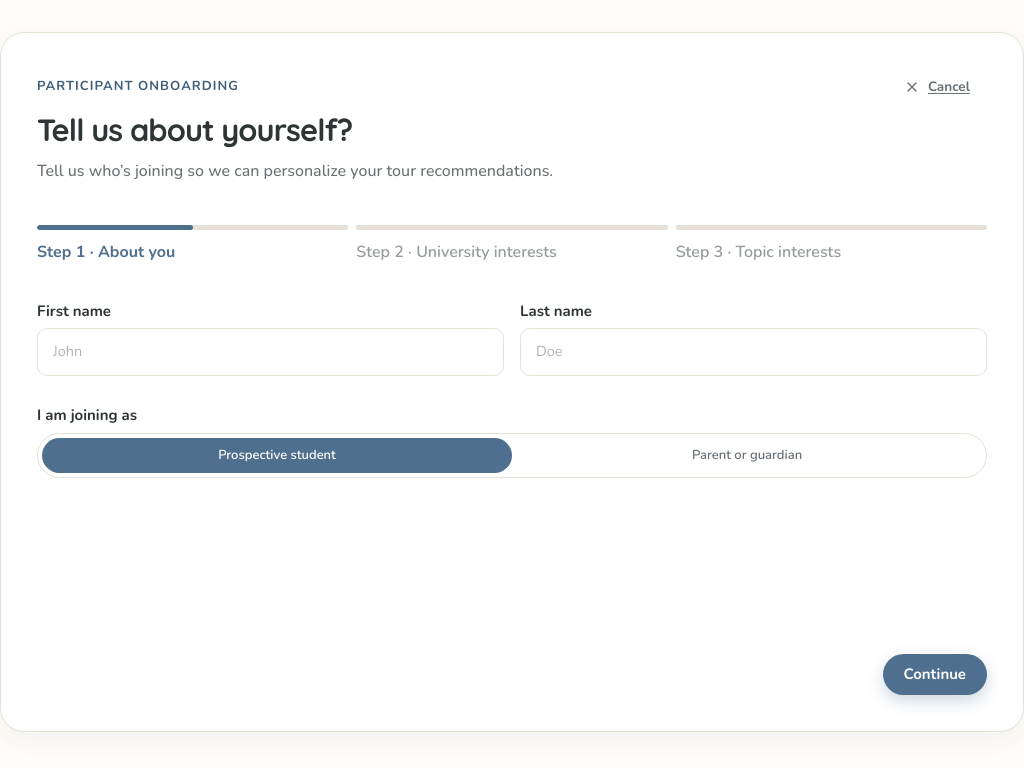
Scenario: ParticipantOnboardingForm edge cases › Back returns to the previous step keeping entered values
The width and height of the screenshot is (1024, 768).
In the field labelled "First name": (270, 352) x1=37 y1=328 x2=504 y2=376, type "Jordan"
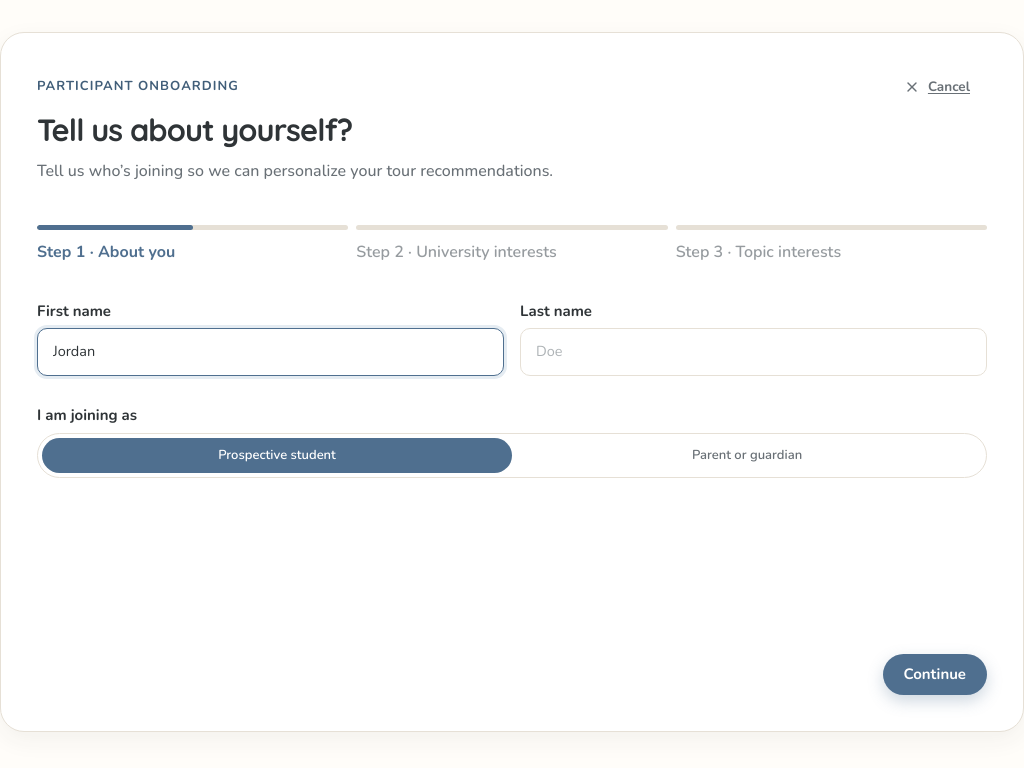
In the field labelled "Last name": (754, 352) x1=520 y1=328 x2=987 y2=376, type "Lee"
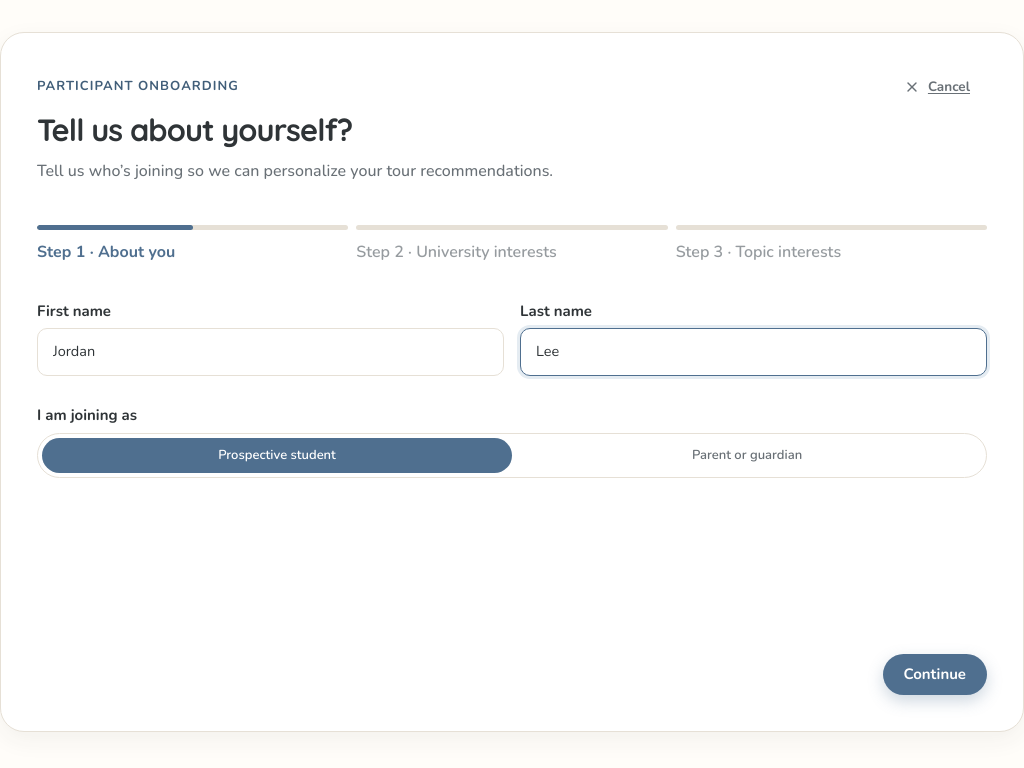
Click the button "Continue": (935, 674) x1=882 y1=654 x2=987 y2=695
(page scrolled)
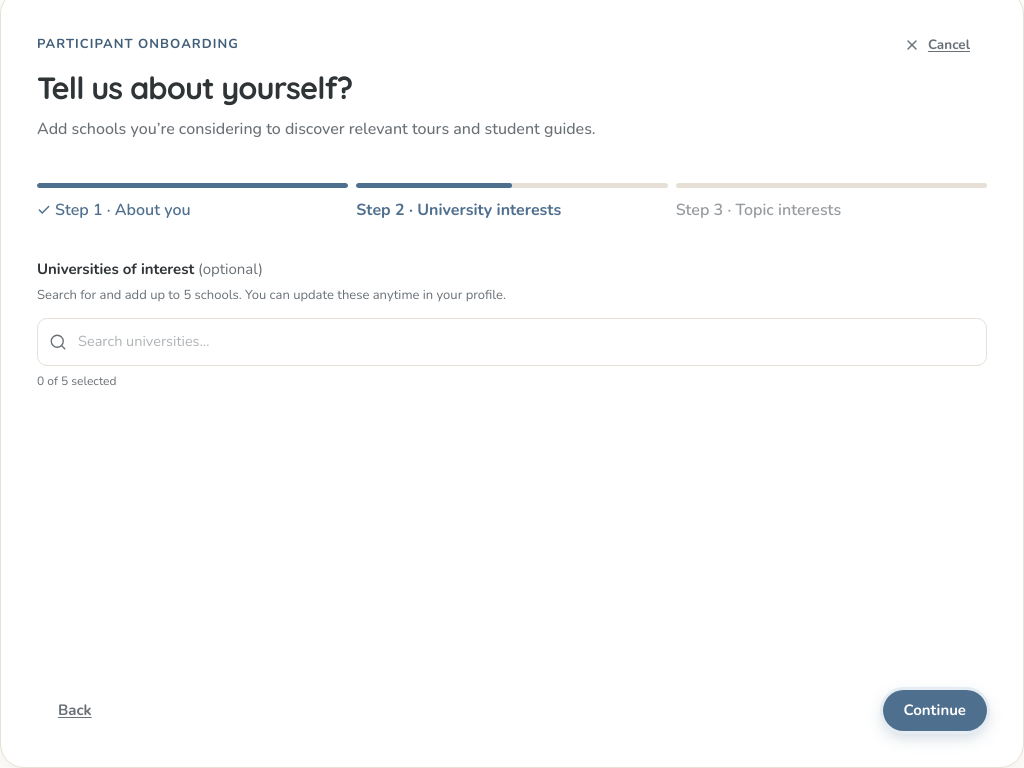
Check: the text "Universities of interest (optional)" is shown, box x1=37 y1=259 x2=263 y2=279
Click the button "Back": (75, 710) x1=37 y1=690 x2=113 y2=731
(page scrolled)
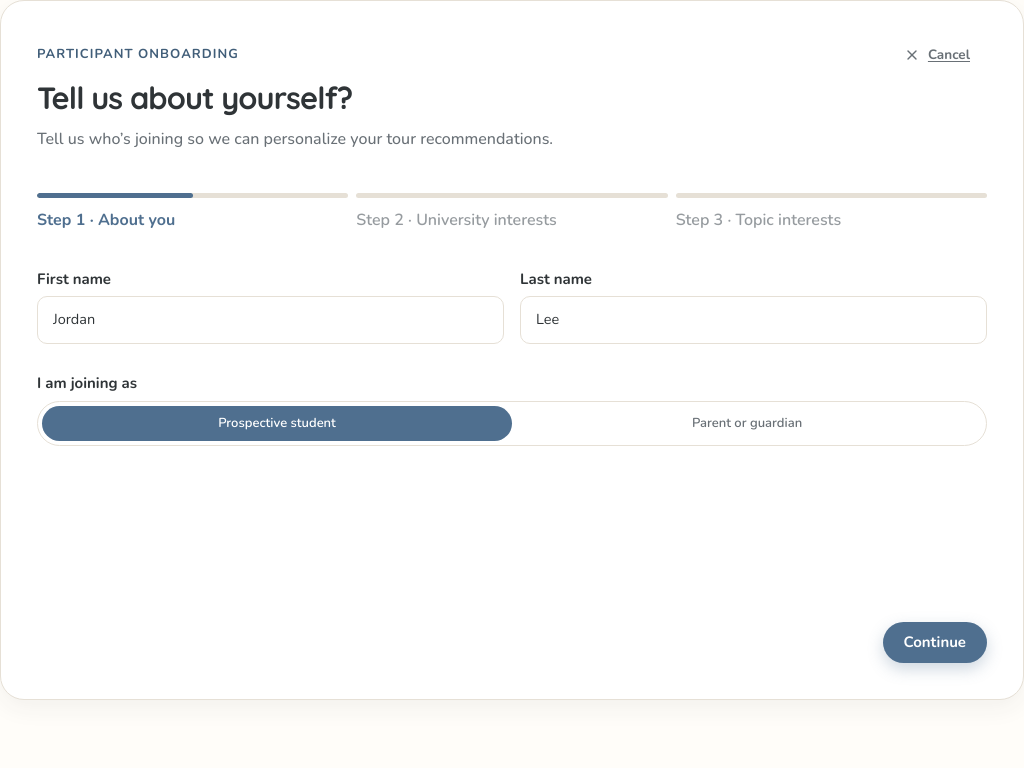
Check: the field labelled "First name" holds "Jordan", box x1=37 y1=296 x2=504 y2=344
